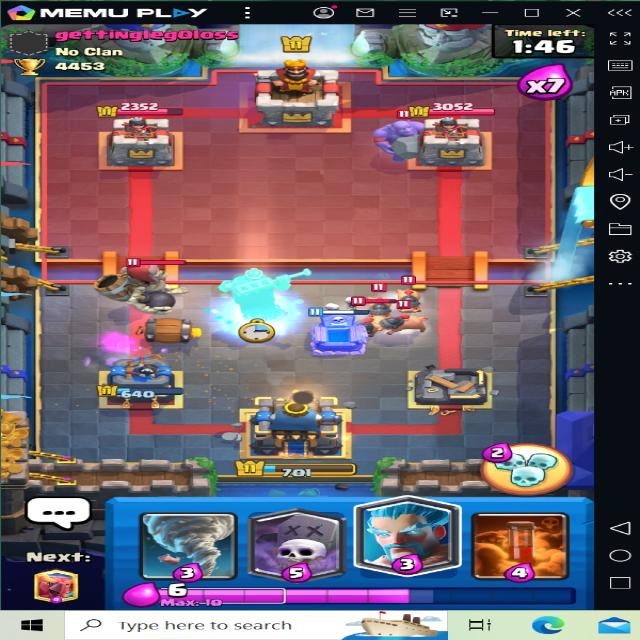bowler: (369, 108, 442, 160)
giant-skeleton: (95, 250, 208, 308)
royal-hogs: (379, 305, 430, 336), (363, 280, 396, 319), (353, 309, 404, 333), (396, 282, 421, 312)
